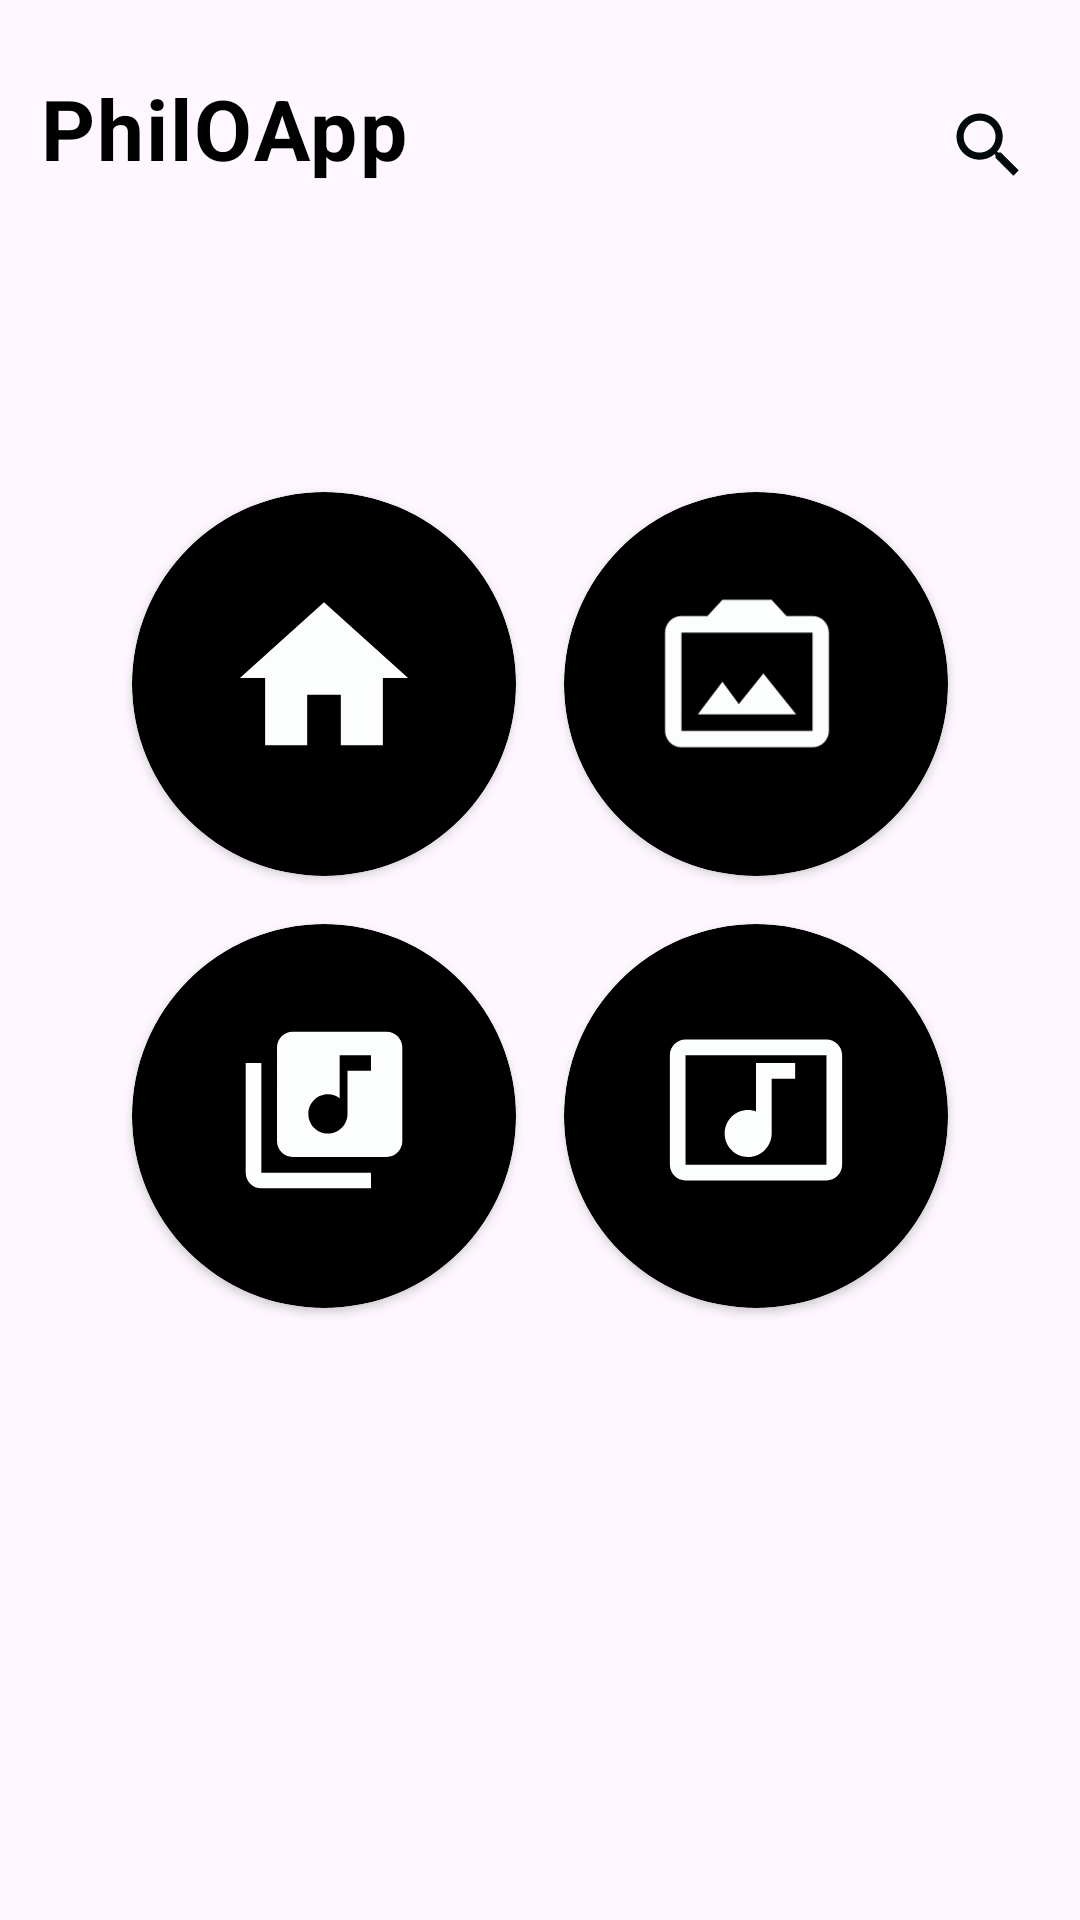

Where to tap for icons on this 1080*1920 app screen, as [x,y]:
home: [324,678]
search: [987,144]
